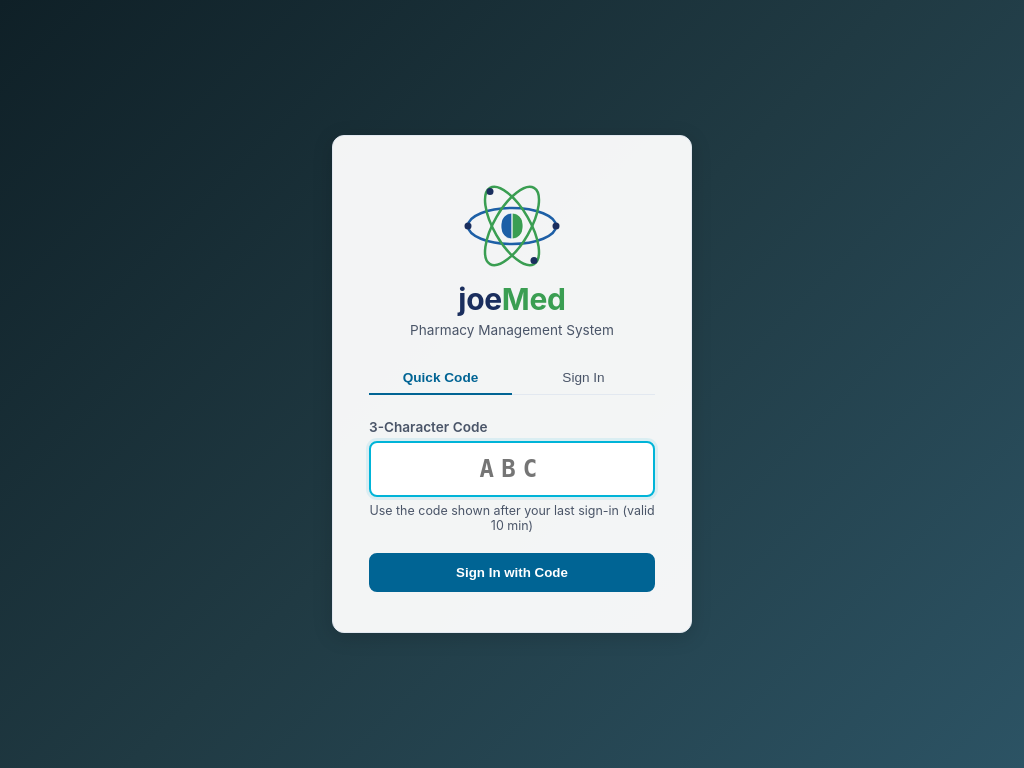
Test: LoginForm › switches to the Sign In (credentials) tab
Click the button "Sign In" at (584,378), box [512,362,655,395]
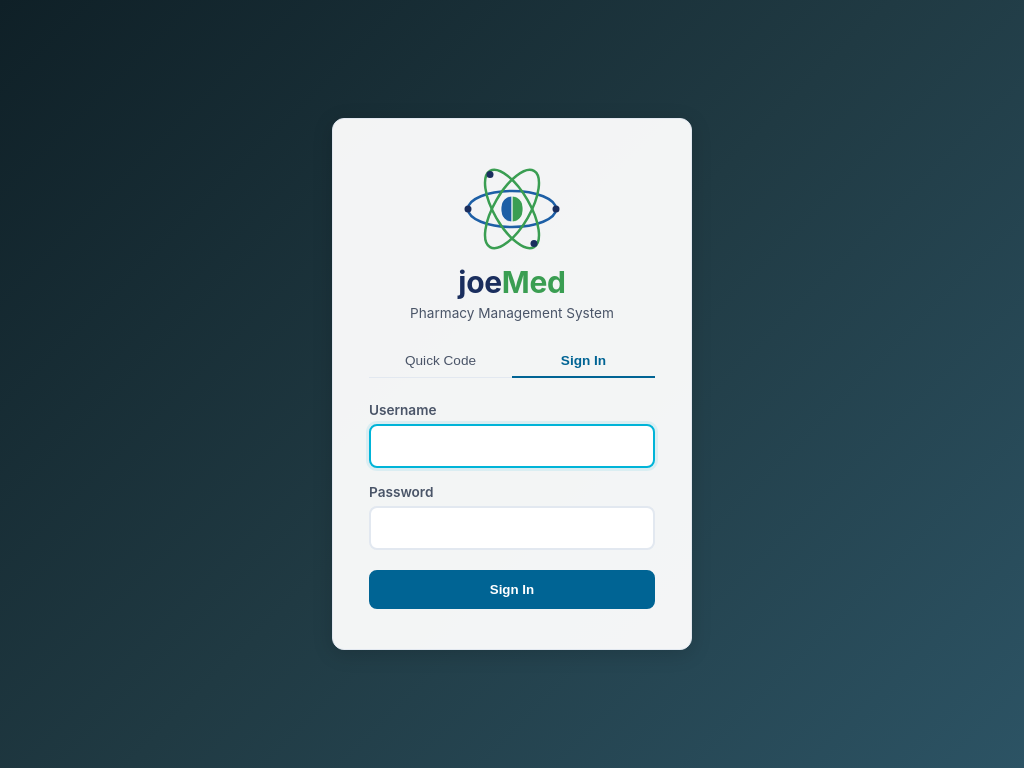
Expected: the field is shown, [369,424,655,468]
Now the password field is shown, box [369,506,655,550]
